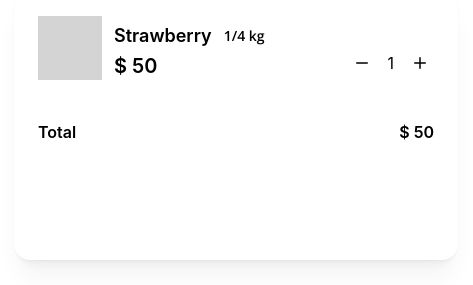
Test: PreviewCart › renders an increased quantity and price upon clicking the + sign
Expected: the text "$ 50" below "Strawberry" is shown, 114,54 -> 158,78
Click the button named "increment" at coordinates (420, 63), box 406,49 -> 434,77
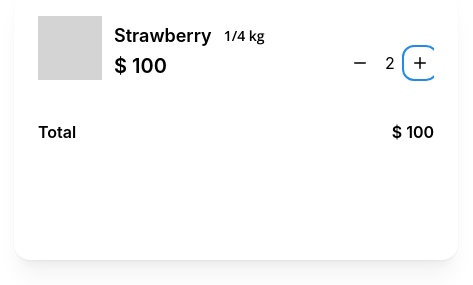
Now the element named "quantity" reads "2", box 385,53 -> 395,73
Now the text "$ 50" below "Strawberry" reads "$ 100", box 114,54 -> 167,78
